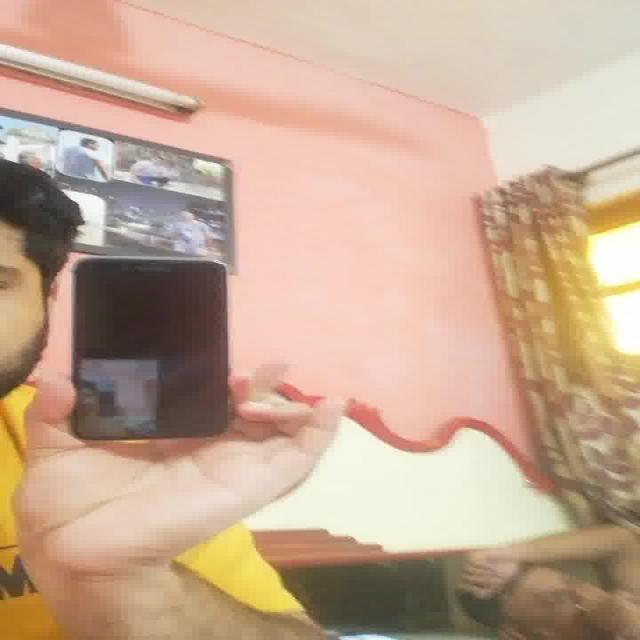phone: (70, 255, 231, 449)
